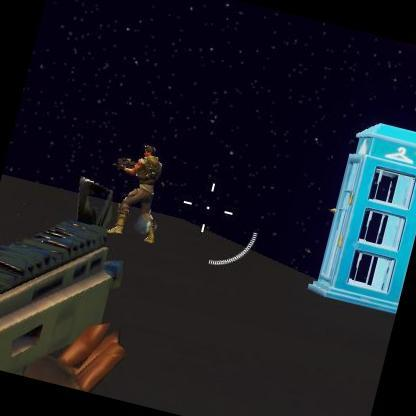person: (106, 142, 170, 236)
